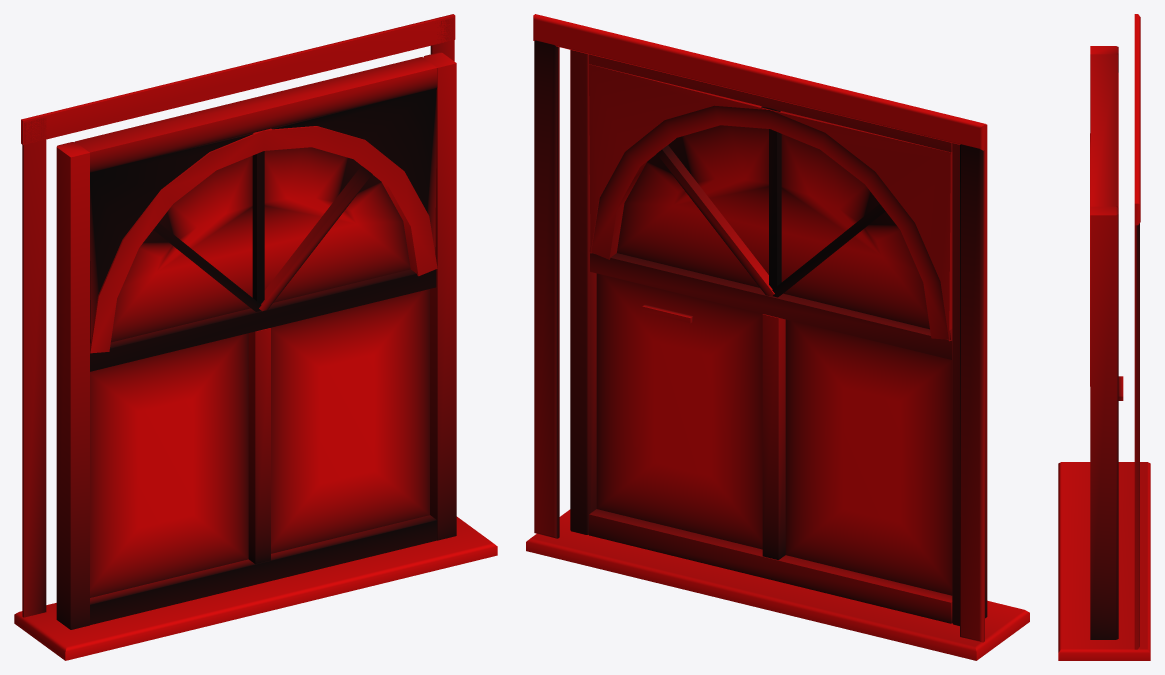
File: CI_Shell_Window_RoundTop.fbx
3 renders of one model, left to right at view 1: azimuth 30°, elevation 25°; view 2: azimuth 150°, elevation 25°; view 3: azimuth 270°, elevation 25°, orthographic. The views are drawn at different scales.
Visible parts, largest first — view 1: CI_Shell_Window_RoundTop; view 2: CI_Shell_Window_RoundTop; view 3: CI_Shell_Window_RoundTop.
Part boxes in pixels (box(x1,y1,x2,y2)): CI_Shell_Window_RoundTop: box(14, 14, 497, 660); CI_Shell_Window_RoundTop: box(526, 14, 1029, 660); CI_Shell_Window_RoundTop: box(1058, 14, 1150, 660).
Bounding box in the file's own units: 1.12 × 1.26 × 0.23.
